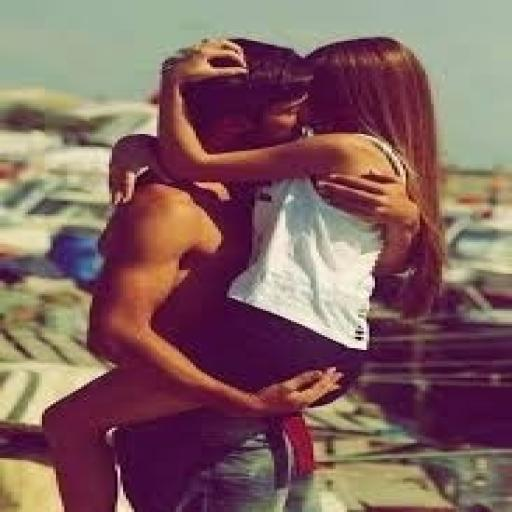hugging: (39, 34, 448, 510)
